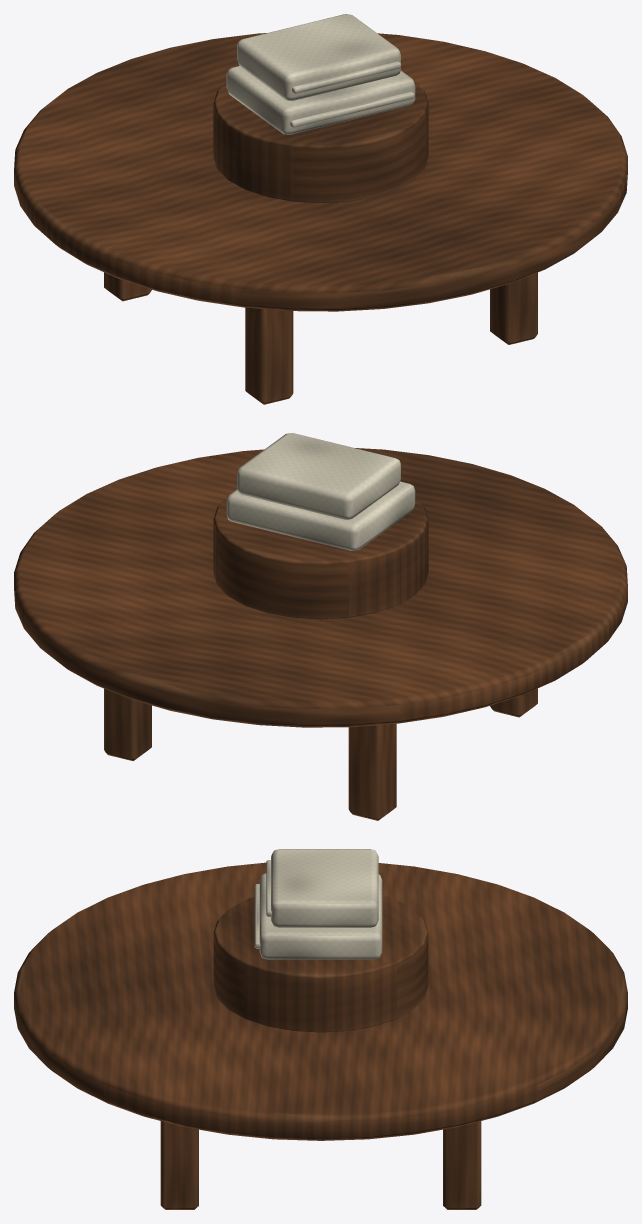
The model's file is Furn_RoundBench_Center.fbx.
3 views of the same model, one above another, from view 1: azimuth 30°, elevation 25°; view 2: azimuth 150°, elevation 25°; view 3: azimuth 270°, elevation 25° (orthographic).
Parts seen in each view (by area): view 1: Furn_RoundBench_Center; view 2: Furn_RoundBench_Center; view 3: Furn_RoundBench_Center.
Boxes of the visible parts, box(x1,y1,x2,y2) form: Furn_RoundBench_Center: box(14, 14, 627, 404); Furn_RoundBench_Center: box(14, 433, 627, 820); Furn_RoundBench_Center: box(14, 849, 627, 1209).
Bounding box in the file's own units: 1.6 × 0.775 × 1.6.
2 materials, 2 textured.
